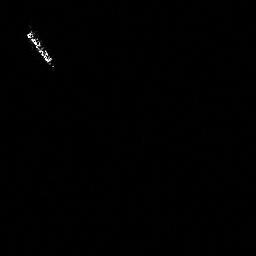ship: (24, 25, 58, 70)
